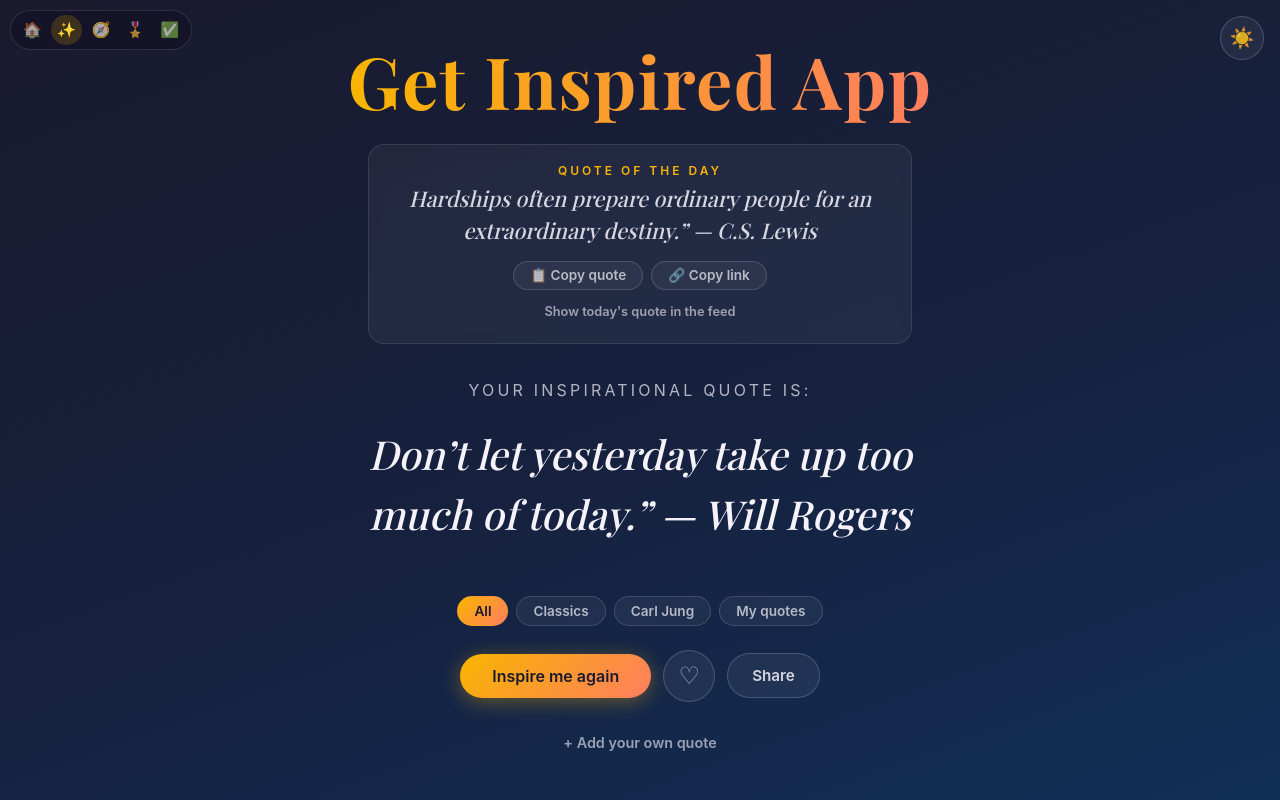
Test: App › shows a new quote when the button is clicked
Click the button "Inspire me again": (556, 676) [460,654,651,698]
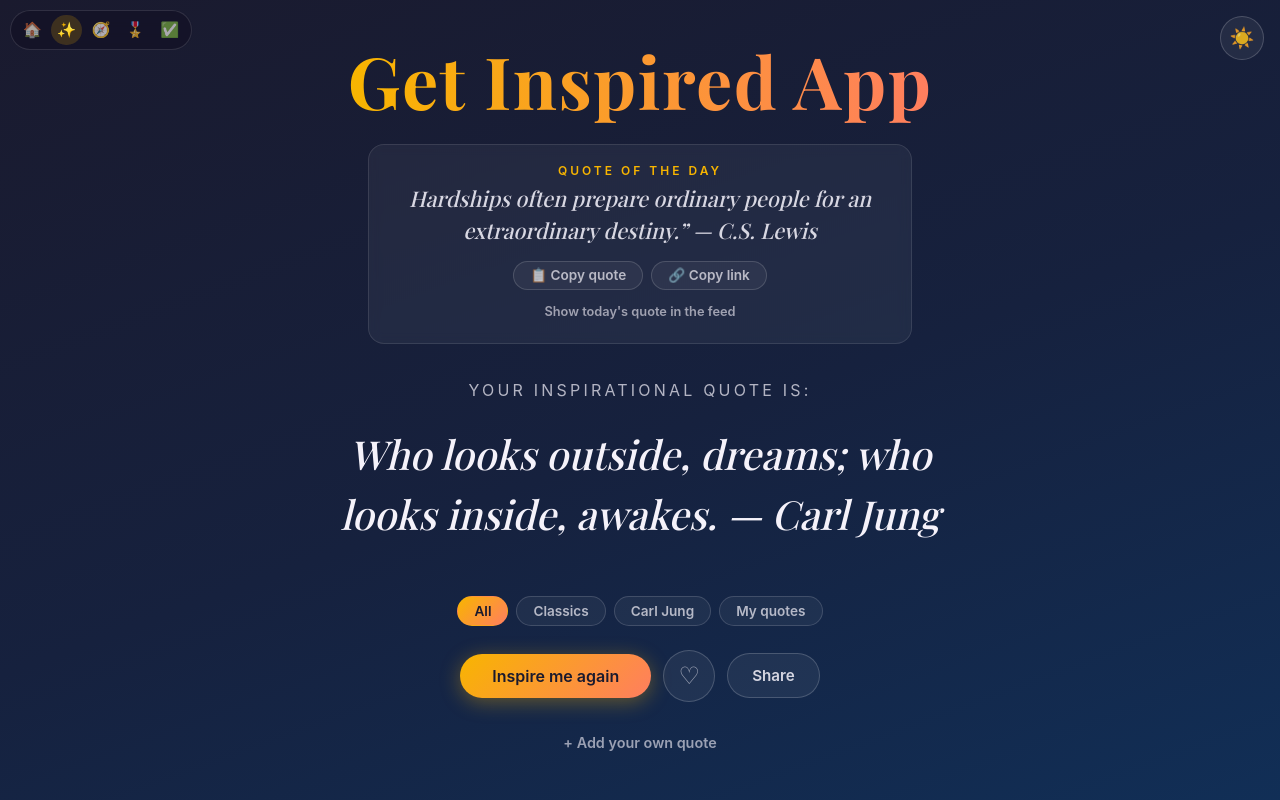
Expected: the heading "Don’t let yesterday take up too much of today.” — Will Rogers" no longer shows "Don’t let yesterday take up too much of today.” — Will Rogers"
